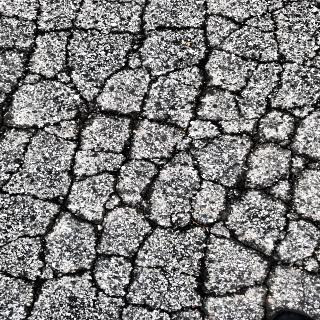alligator-crack: (4, 4, 318, 318)
